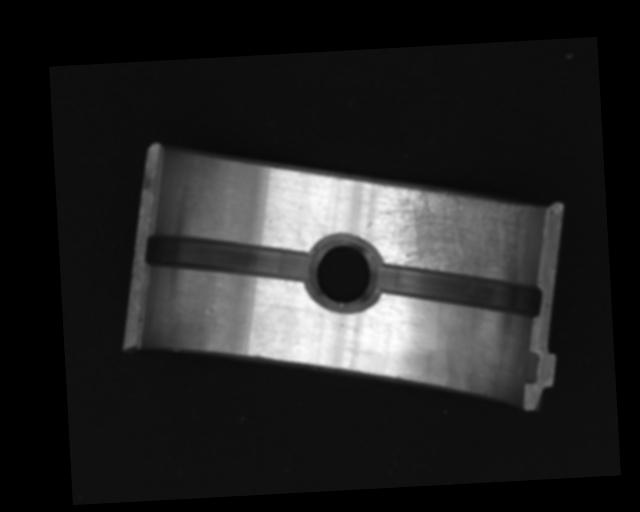gap: (375, 253, 545, 327), (142, 226, 308, 289)
hole: (307, 240, 384, 310)
scratch: (381, 179, 542, 289)
